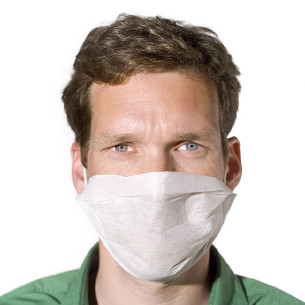face_mask: (85, 70, 223, 281)
